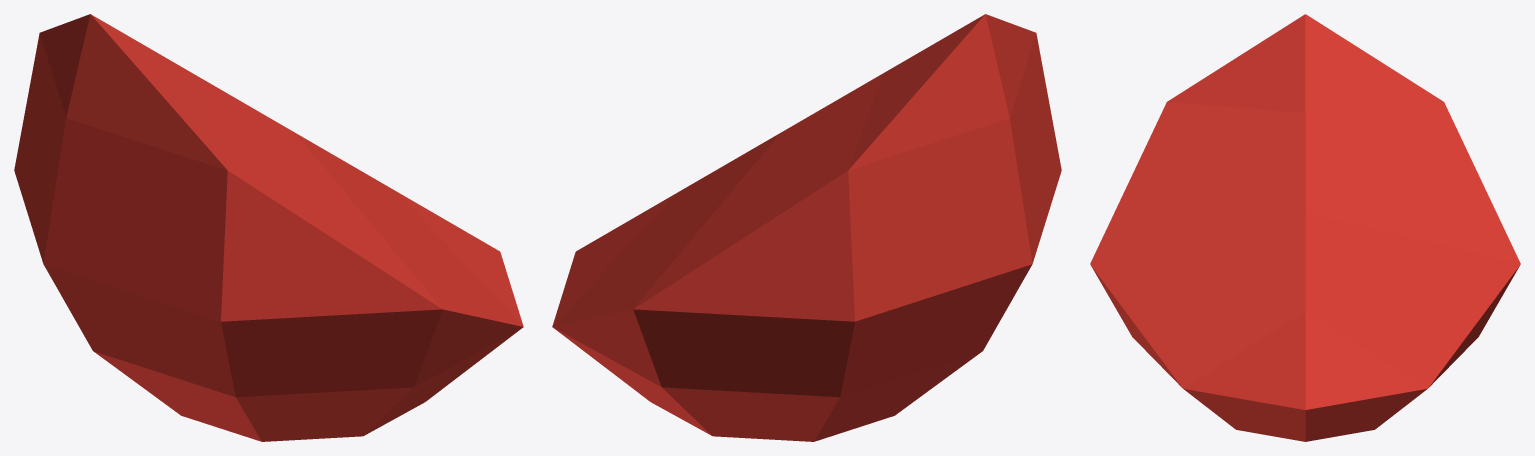
File: mangoRed.obj
3 views of the same model, side by side, from view 1: azimuth 30°, elevation 25°; view 2: azimuth 150°, elevation 25°; view 3: azimuth 270°, elevation 25° (orthographic). The views are drawn at different scales.
Visible parts, largest first — view 1: mangoRed; view 2: mangoRed; view 3: mangoRed.
Part boxes in pixels (bbox=[...]): mangoRed: bbox=[14, 14, 523, 441]; mangoRed: bbox=[552, 14, 1061, 441]; mangoRed: bbox=[1090, 14, 1520, 441].
Bounding box in the file's own units: 0.1816 × 0.161 × 0.2013.
